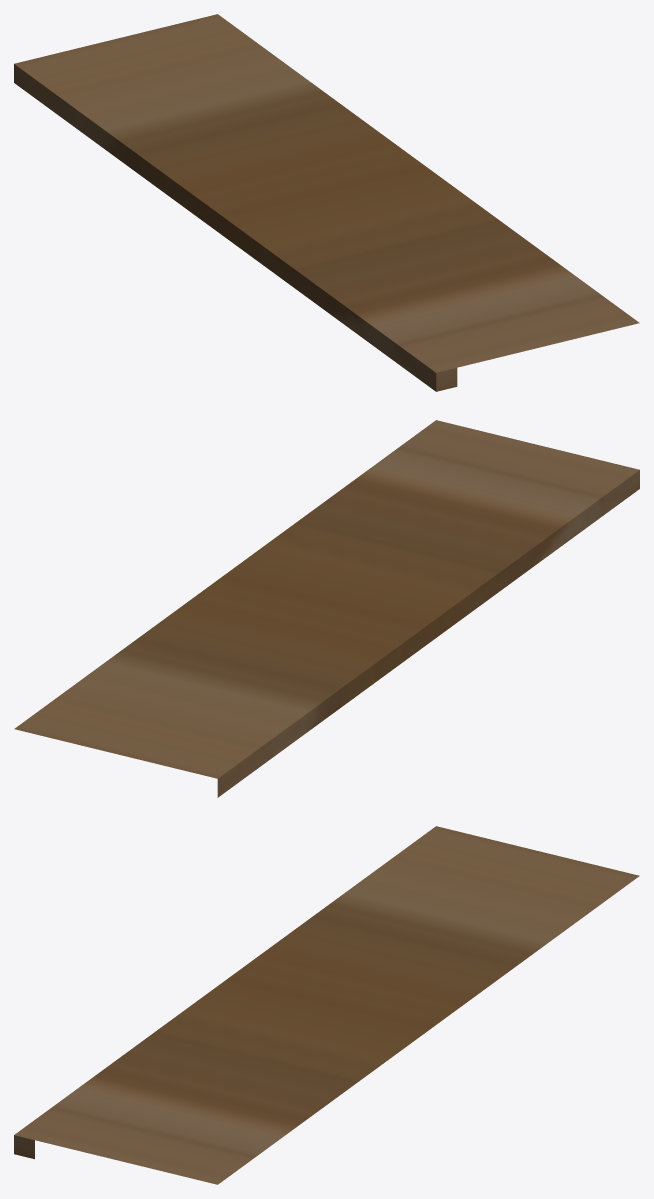
File: windowbottom.glb
3 renders of one model, top to bottom at view 1: azimuth 30°, elevation 25°; view 2: azimuth 150°, elevation 25°; view 3: azimuth 330°, elevation 25°, orthographic.
Parts seen in each view (by area): view 1: TabWallUpR; view 2: TabWallUpR; view 3: TabWallUpR.
Boxes of the visible parts, <box> form: TabWallUpR: <box>14,14,639,391</box>; TabWallUpR: <box>14,420,639,797</box>; TabWallUpR: <box>14,826,639,1184</box>.
Bounding box in the file's own units: 1.24 × 0.1107 × 4.44.
1 material, 1 textured.
